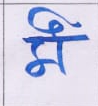au_matra: (35, 8, 79, 73)
